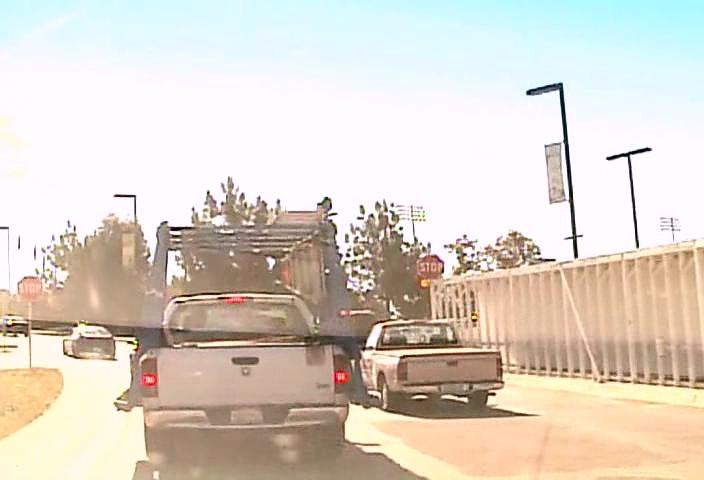stop: (417, 254, 444, 282)
